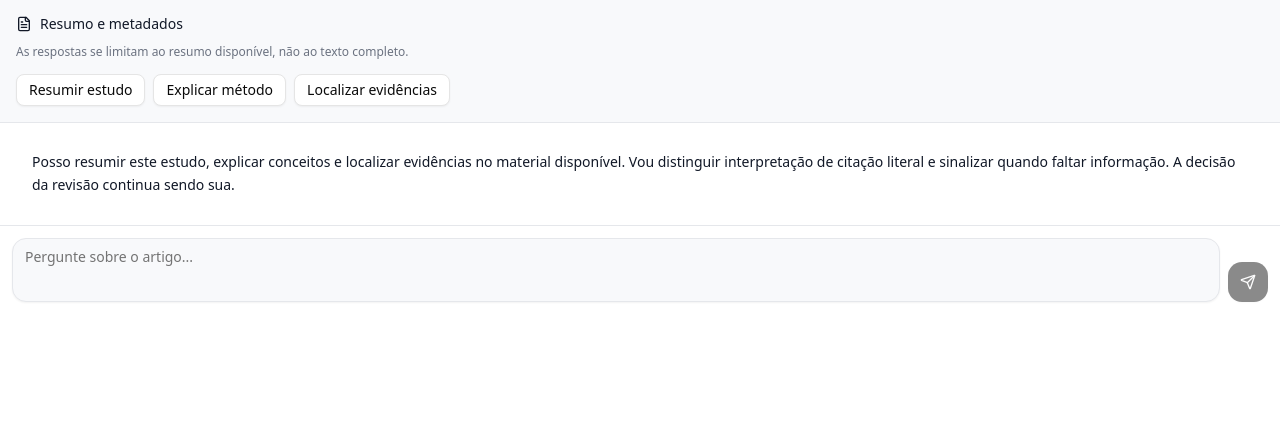
offers a visible retry and retains the question after an error
This screenshot has width=1280, height=424.
Type "Explique o método" into the text box with placeholder "Pergunte sobre o artigo...". click: (616, 270)
box: x1=12 y1=238 x2=1220 y2=302
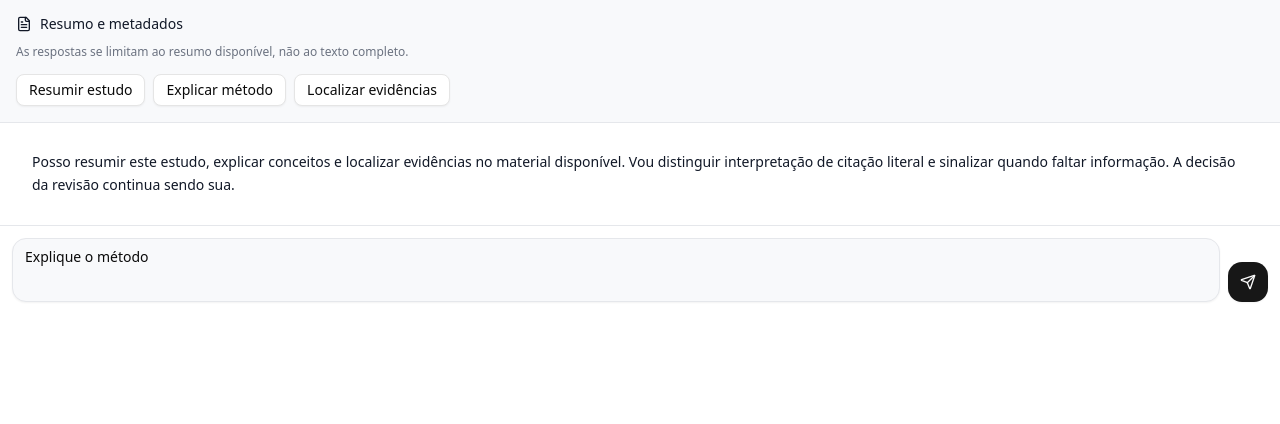
Press Enter in the text box with placeholder "Pergunte sobre o artigo...", box x1=12 y1=238 x2=1220 y2=302
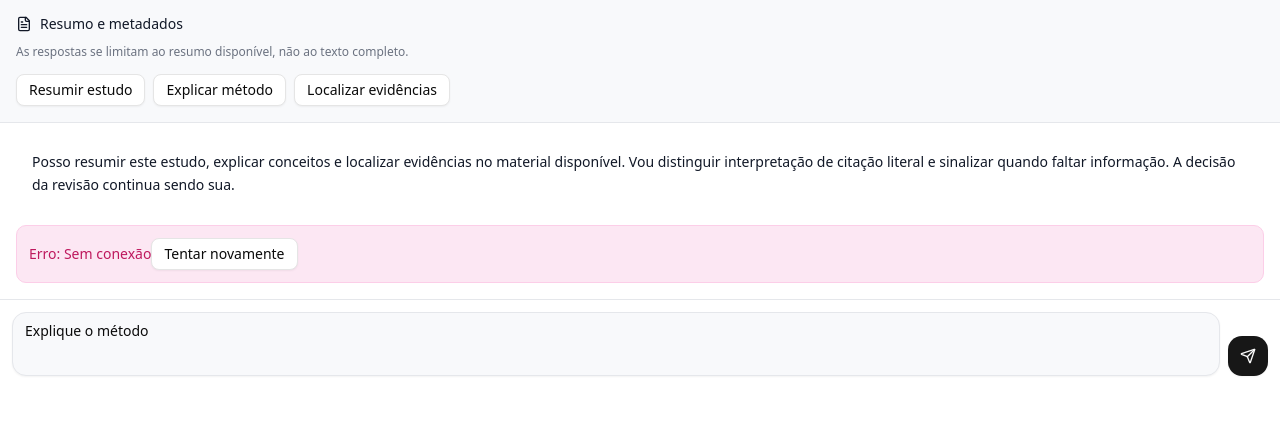
Now the message shows "Sem conexão", box x1=64 y1=244 x2=151 y2=262
Click the button "Tentar novamente". click: (224, 254)
box: x1=151 y1=238 x2=298 y2=270
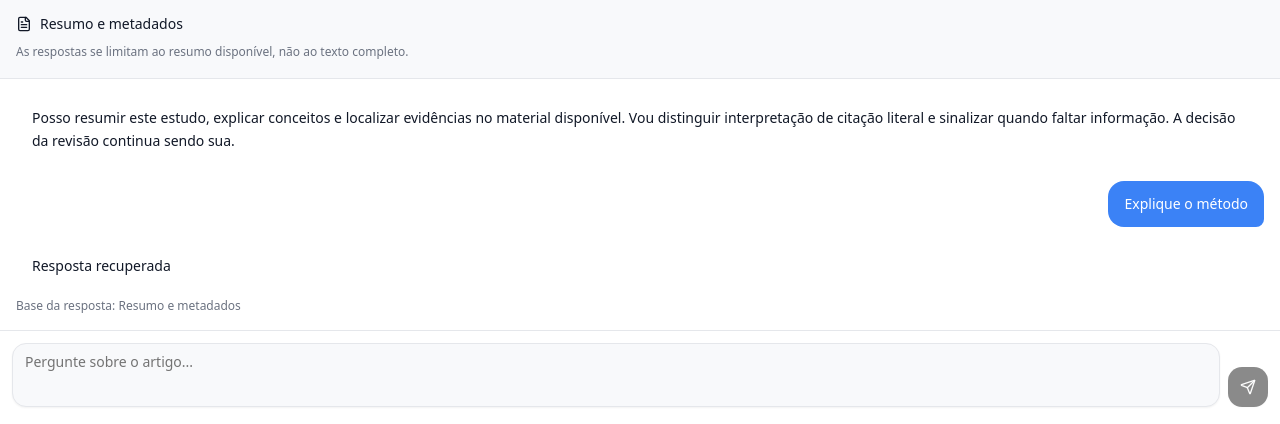
Now the text "Resposta recuperada" is shown, box x1=32 y1=256 x2=171 y2=275
